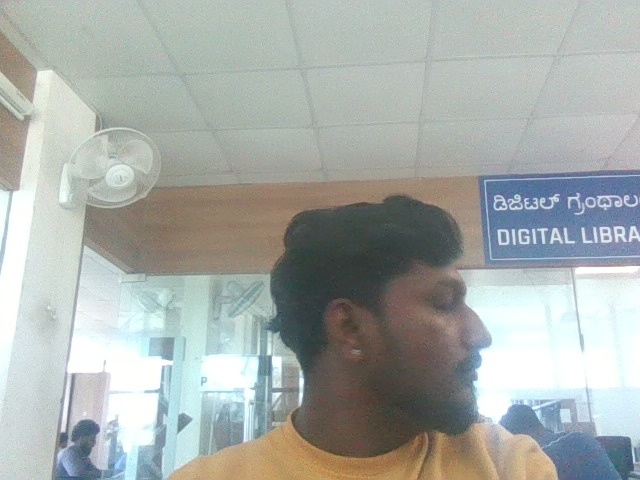real: (348, 199, 494, 406)
